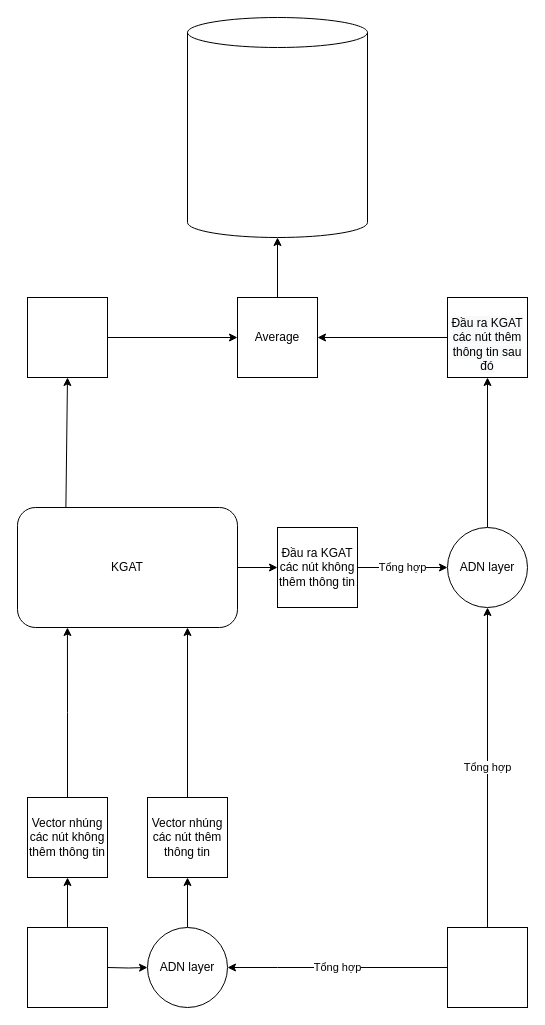
This 545x1025 diagram has some shape labels left out. Here are the shapes that lost their labels. From the top down, the centre of each, then its label:
At [277,127]: "Link prediction cho bài toán khuyến nghị".
At [67,337]: "Đầu ra KGAT các nút thêm thông tin từ đầu".
At [67,967]: "Đồ thị tri thức".
At [487,967]: "Thông tin các nút".
